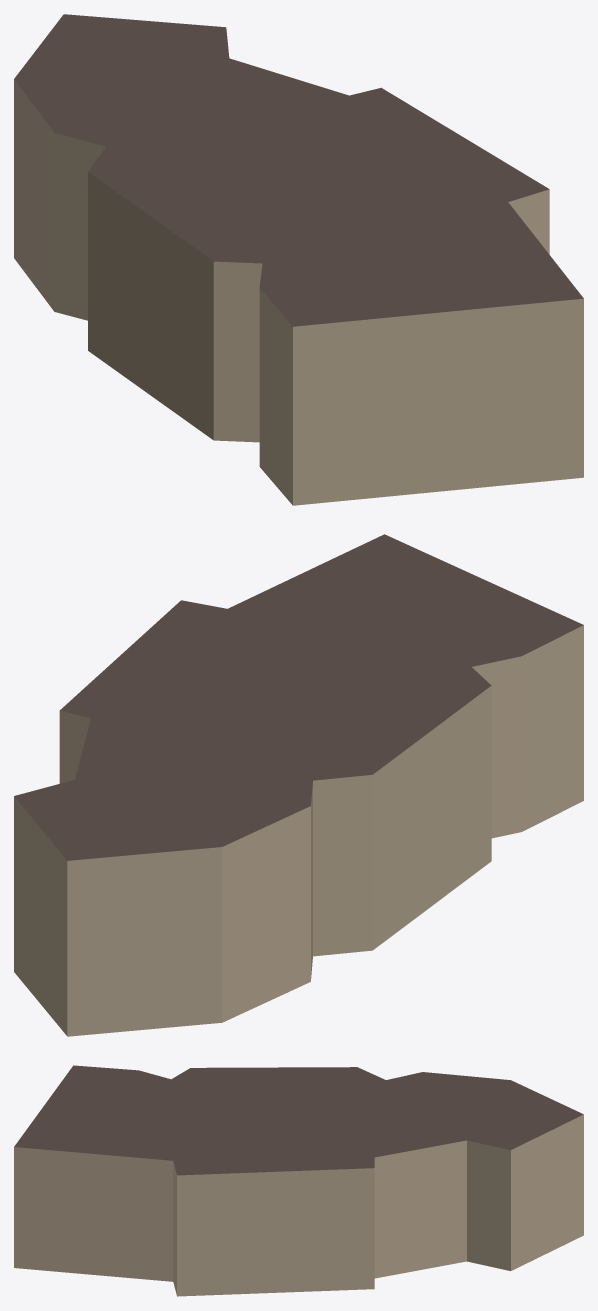
3 renders of one model, top to bottom at view 1: azimuth 30°, elevation 25°; view 2: azimuth 150°, elevation 25°; view 3: azimuth 270°, elevation 25°, orthographic. The views are drawn at different scales.
Visible parts, largest first — view 1: HP-w293024002; view 2: HP-w293024002; view 3: HP-w293024002.
Part boxes in pixels (x1,y1,x2,y2): HP-w293024002: (14,14,583,505); HP-w293024002: (14,534,583,1036); HP-w293024002: (14,1065,583,1296).
Size of the model in its own units: 17.54 by 9 by 38.41.
